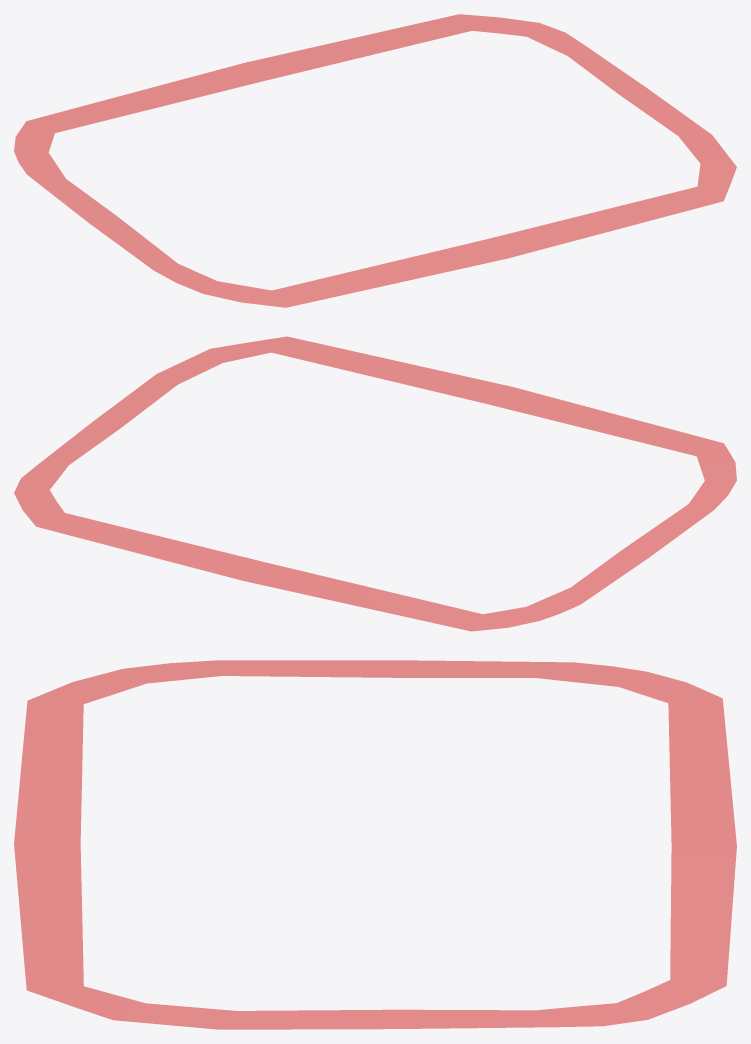
The model's file is kuang.FBX.
3 views of the same model, one above another, from view 1: azimuth 30°, elevation 25°; view 2: azimuth 150°, elevation 25°; view 3: azimuth 270°, elevation 25° (orthographic). The views are drawn at different scales.
Parts seen in each view (by area): view 1: Cylinder001; view 2: Cylinder001; view 3: Cylinder001.
Boxes of the visible parts, x1,y1,x2,y2 form: Cylinder001: [14, 14, 736, 307]; Cylinder001: [14, 336, 736, 631]; Cylinder001: [14, 660, 736, 1029].
Size of the model in its own units: 19.36 by 0.0173 by 16.01.
